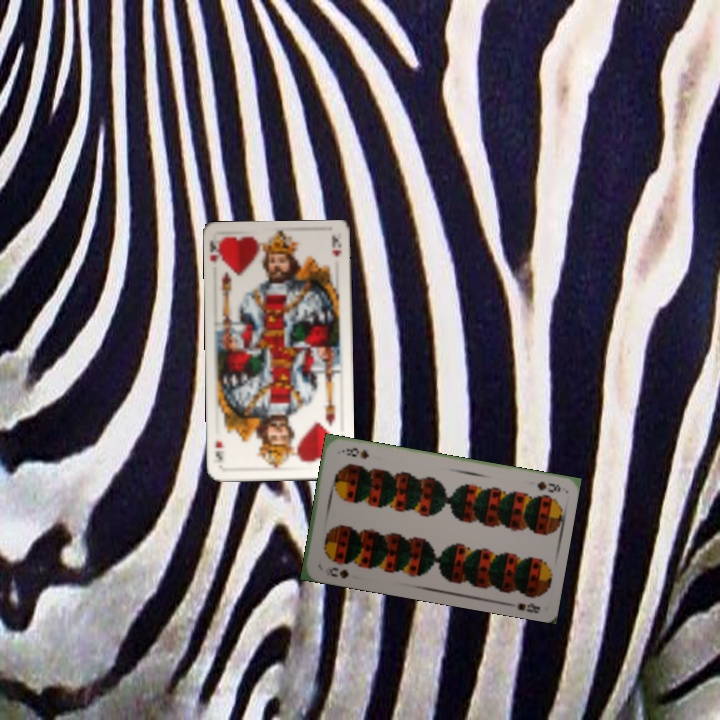HK: (206, 236, 226, 267)
S8: (321, 562, 351, 581), (533, 477, 563, 495)
